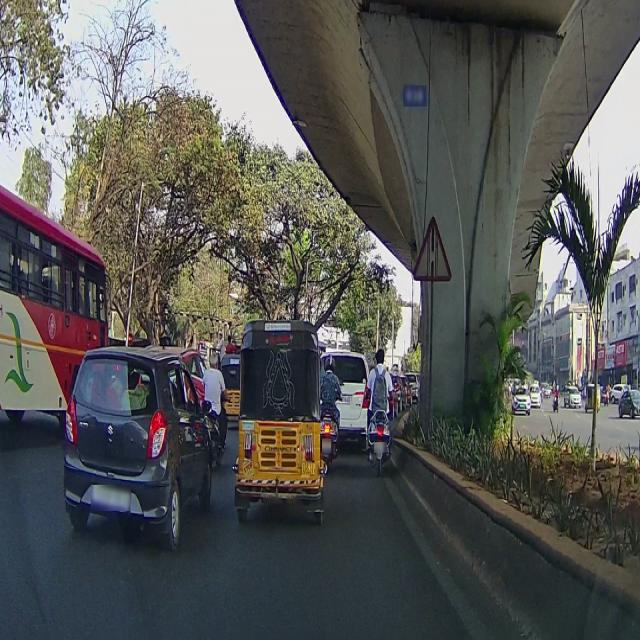gap-in-median: (412, 215, 453, 282)
